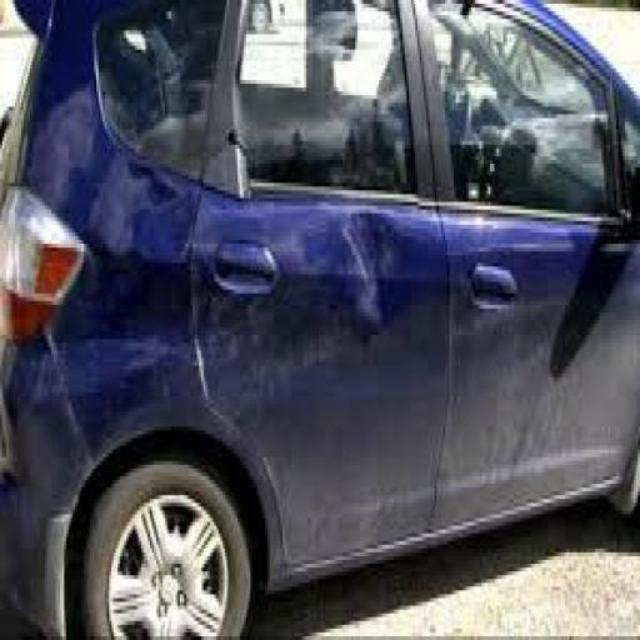dent: (340, 210, 407, 335), (136, 173, 215, 273)
